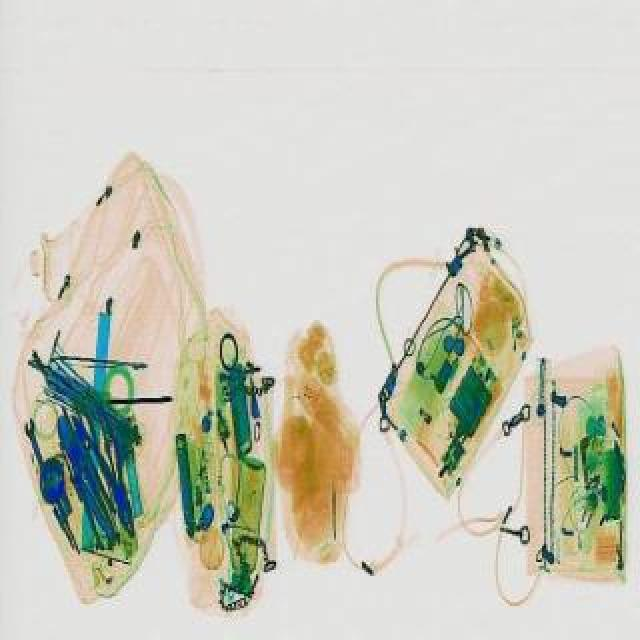scissors: (20, 414, 72, 522)
wrench: (78, 402, 146, 540)
